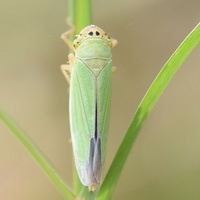insect: (61, 25, 115, 190)
